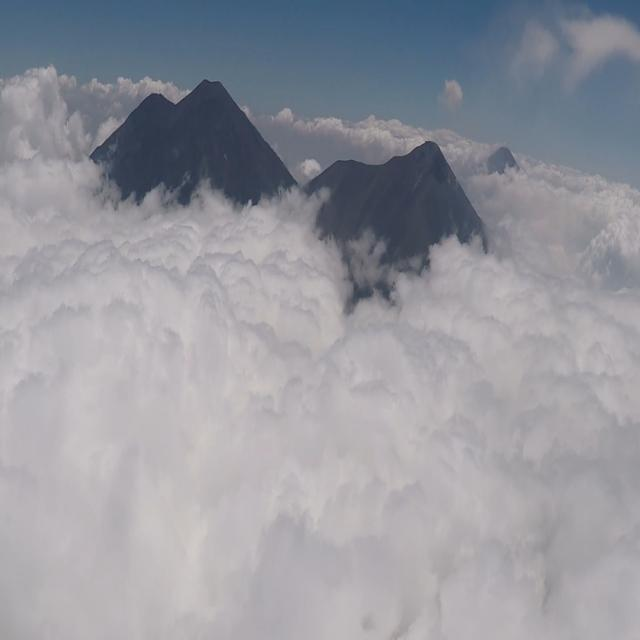Plume: (438, 76, 464, 114)
Summit: (382, 138, 460, 186)
